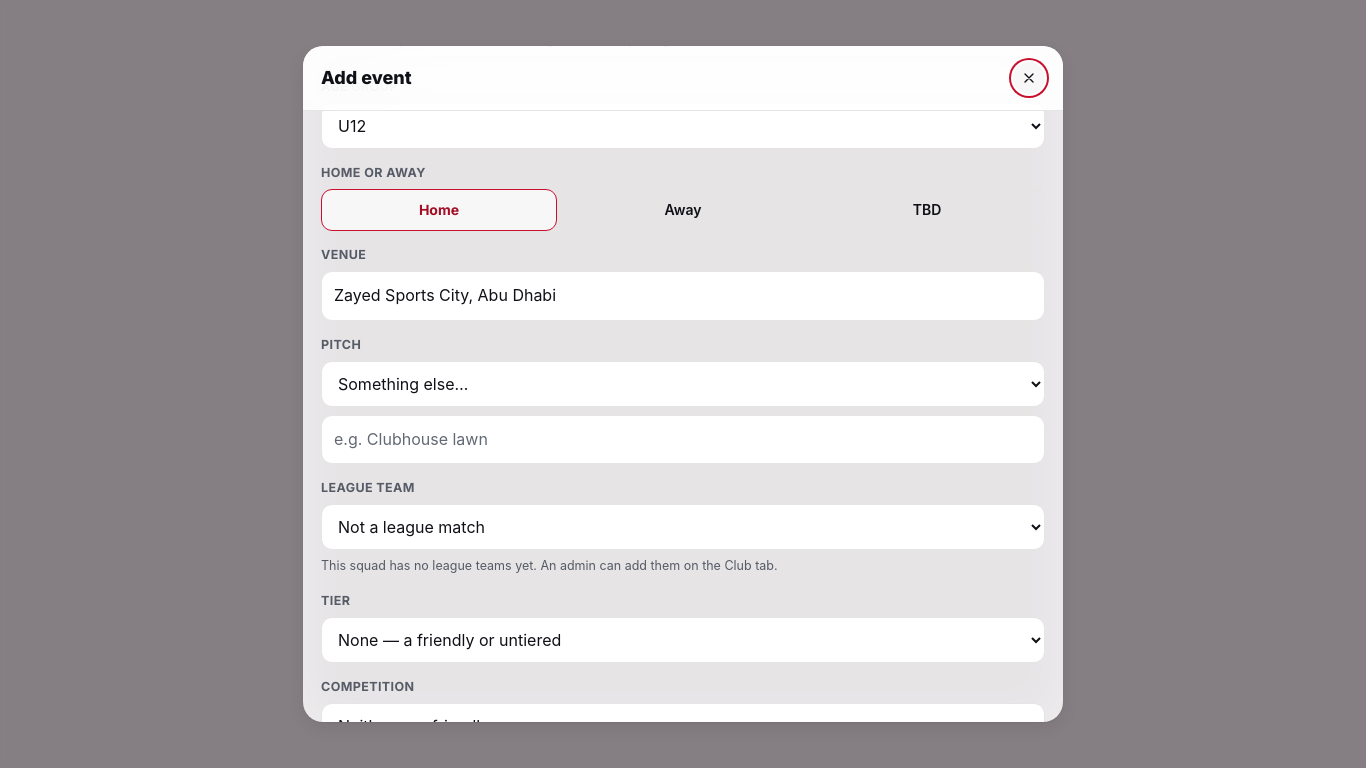
Test: EventForm pitch portion › pre-fills a full pitch for a U12 match
This screenshot has width=1366, height=768.
(page scrolled)
Select "Pitch 1" in the dropdown labelled "Pitch": (683,384) x1=321 y1=361 x2=1045 y2=407
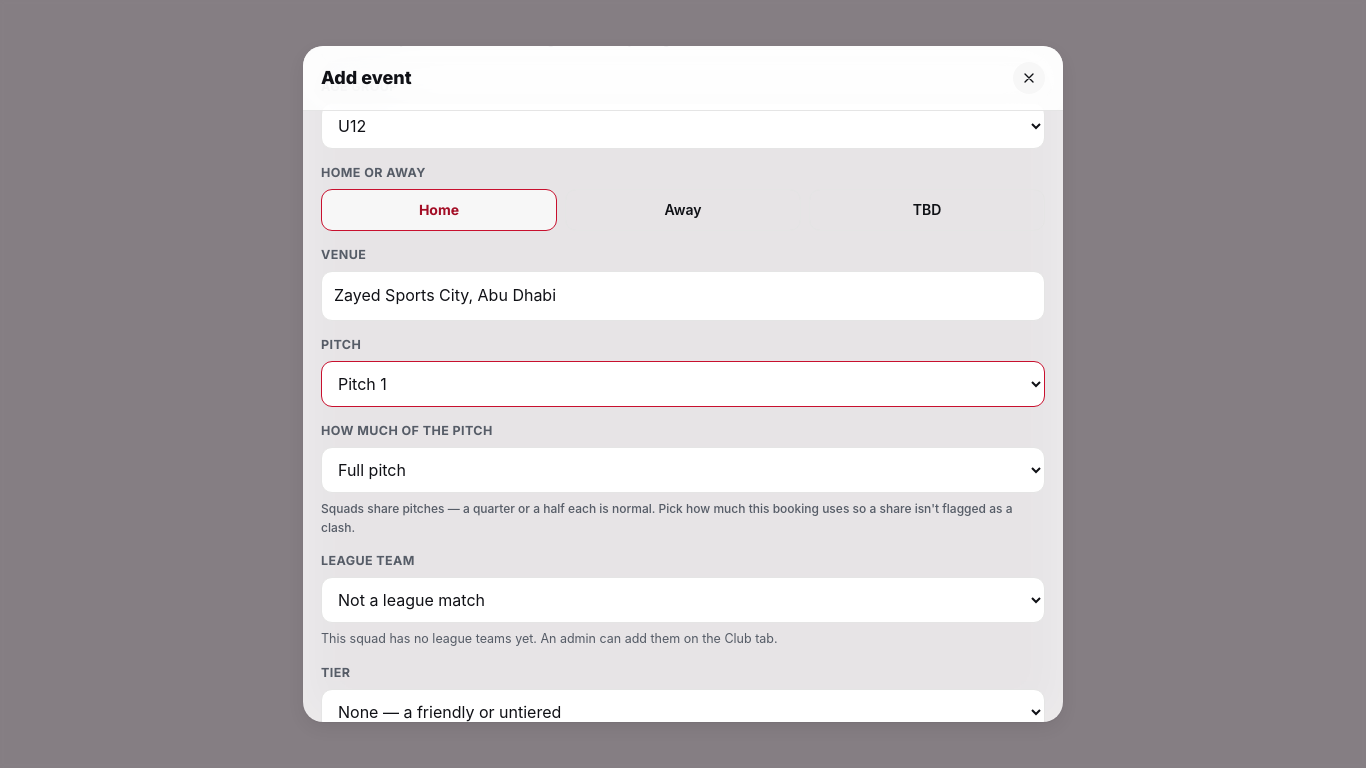
Expected: the dropdown labelled "How much of the pitch" shows "Full pitch", x1=321 y1=447 x2=1045 y2=493
